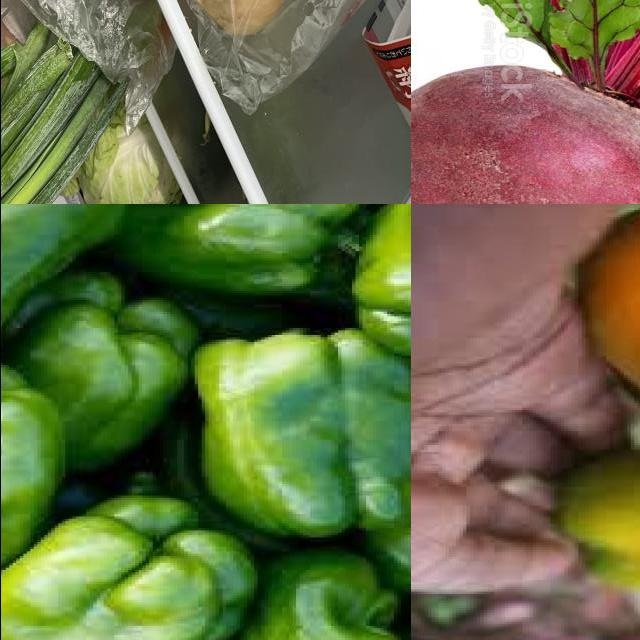beet: (411, 1, 640, 205)
bell_pepper: (1, 264, 199, 479), (1, 493, 268, 640), (564, 205, 640, 514), (1, 350, 80, 577)
cabbage: (79, 99, 186, 205)
onion: (1, 5, 162, 205), (183, 1, 295, 40)
